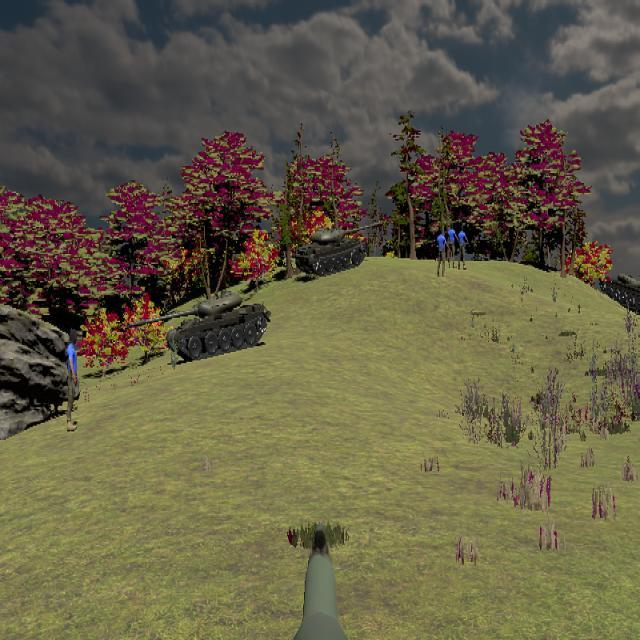Human: (433, 226, 450, 278), (456, 224, 470, 270), (445, 223, 458, 267)
Tank: (124, 292, 271, 363), (295, 221, 382, 277), (602, 272, 640, 314), (603, 272, 640, 315)
